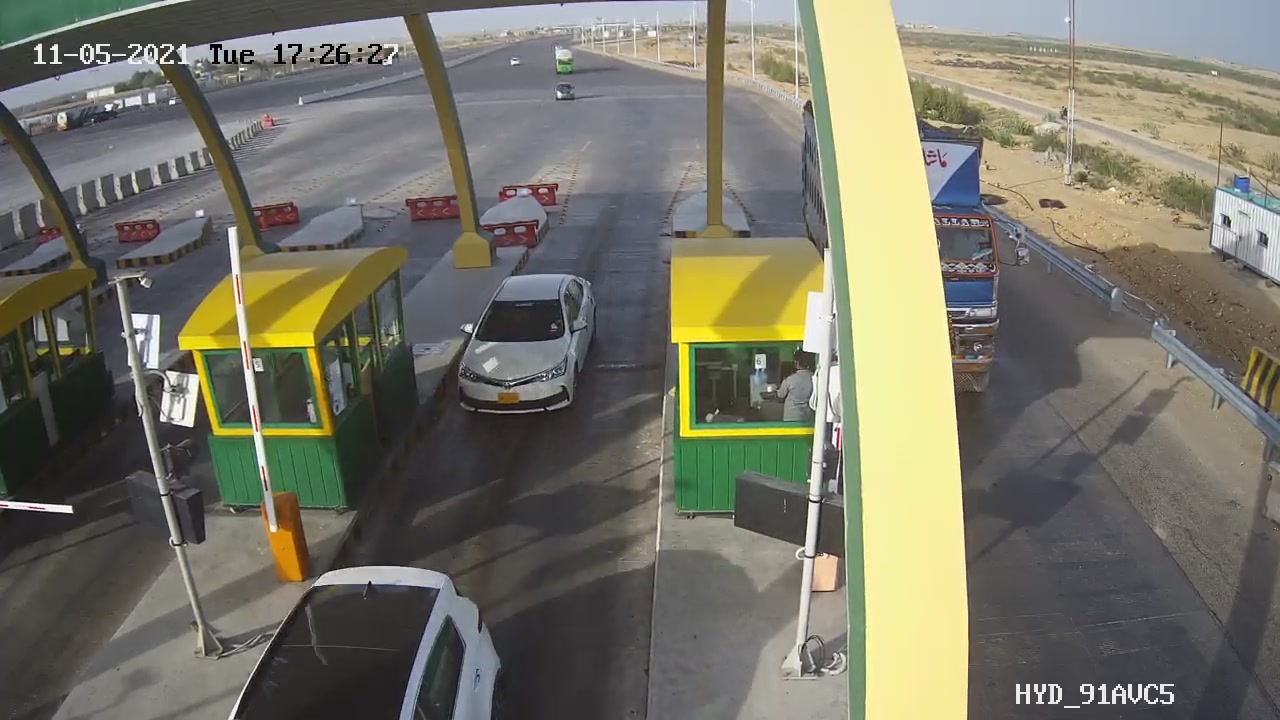F1: (439, 261, 618, 434)
